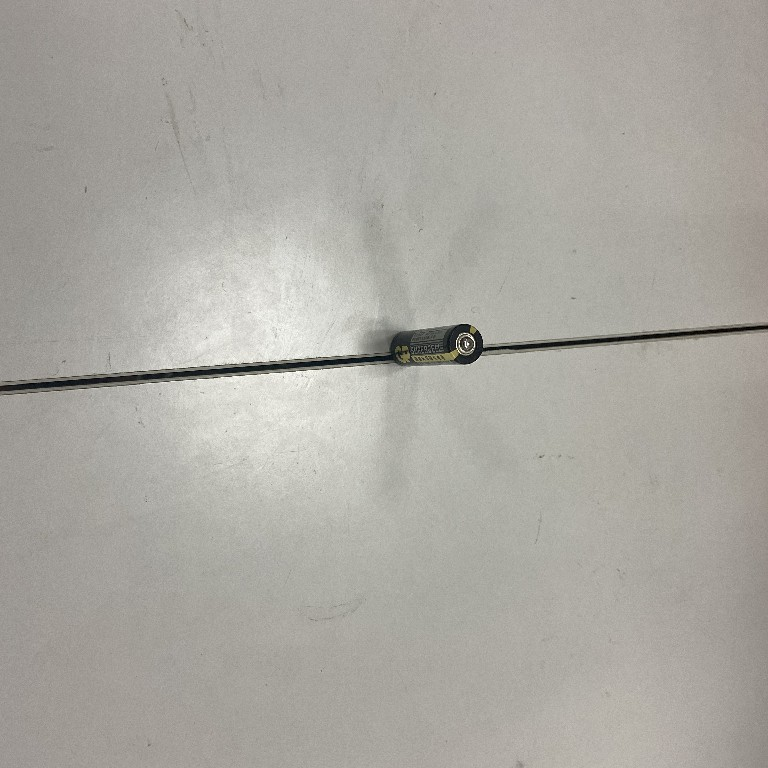charge: (386, 321, 487, 370)
